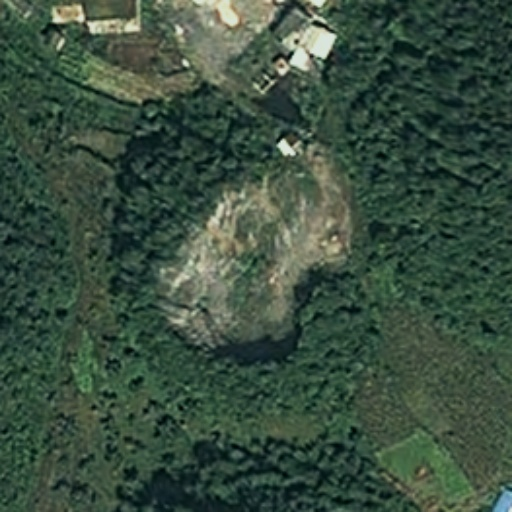landslide: (173, 163, 357, 343)
